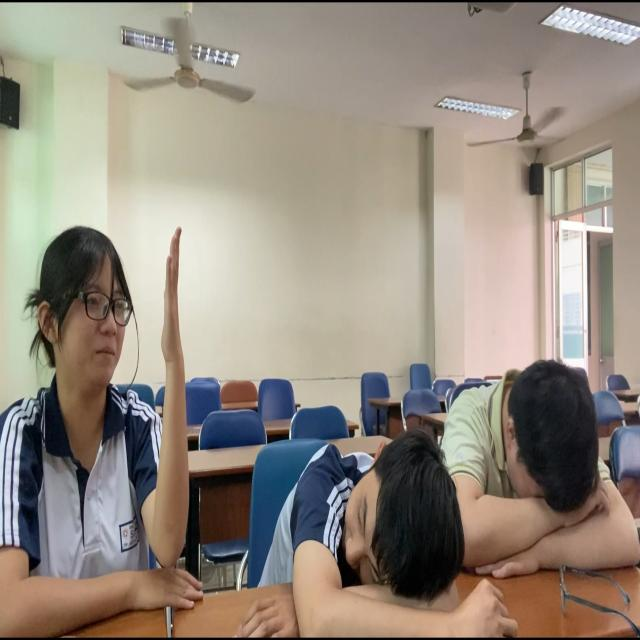raise_hand: (1, 219, 198, 640)
sleep: (446, 357, 640, 575), (265, 430, 465, 640)
